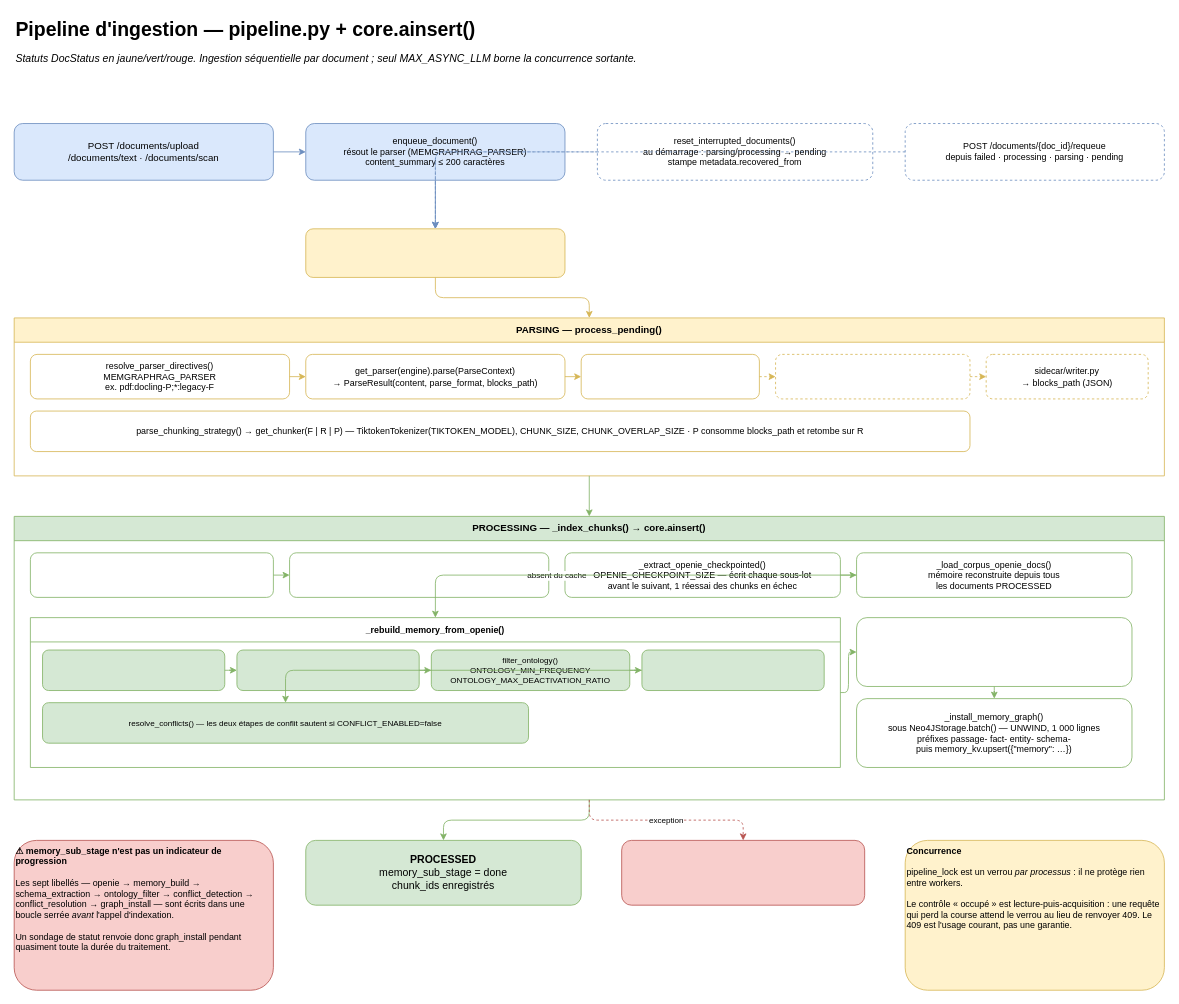
Image size: 1179x1004. Some labels were removed from this diagram. The centre of each missing label's shape, as x and y in pixels:
_assign_chunk_ids() id de contenu « chunk-… »: (x=151, y=574)
_embed_and_store_memory() facts_vdb · schemas_vdb entities_vdb · chunks_vdb: (x=994, y=651)
build_from_raw_openie_results() faits + passages: (x=133, y=670)
Cache openie_kv seuls les nouveaux chunks appellent le LLM: (x=419, y=574)
detect_conflicts() CONFLICT_MAX_GROUPS: (x=732, y=670)
DoclingParser DOCLING_ENDPOINT (profil optionnel): (x=872, y=376)
extract_schema() couche schéma (LLM): (x=327, y=670)
FAILED metadata.error memory_sub_stage = None: (x=743, y=872)
LegacyParser ~28 extensions: (x=669, y=376)
PENDING: (x=435, y=252)
